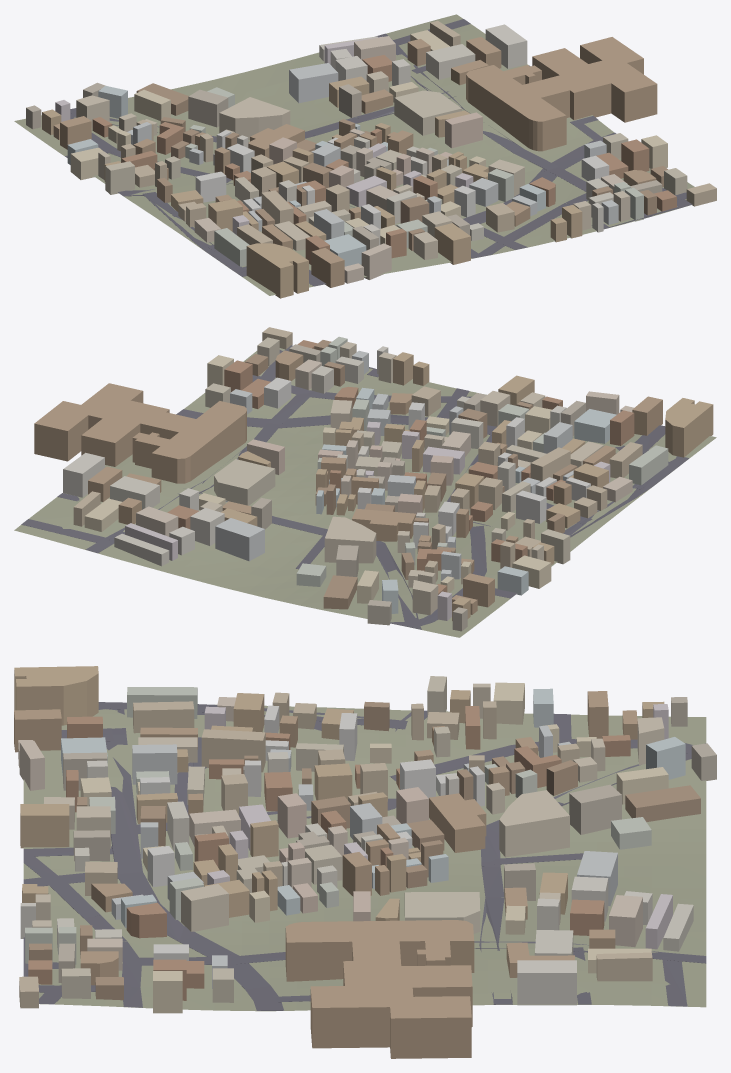
File: chunk_10_2.glb
3 views of the same model, one above another, from view 1: azimuth 30°, elevation 25°; view 2: azimuth 150°, elevation 25°; view 3: azimuth 270°, elevation 25° (orthographic). The views are drawn at different scales.
Parts seen in each view (by area): view 1: geometry_234, geometry_0, geometry_18, geometry_16, geometry_1, geometry_54, geometry_37, geometry_26, geometry_35, geometry_2, geometry_232, geometry_19 (+56 smaller); view 2: geometry_234, geometry_0, geometry_18, geometry_1, geometry_16, geometry_54, geometry_3, geometry_37, geometry_35, geometry_33, geometry_173, geometry_254 (+54 smaller); view 3: geometry_234, geometry_0, geometry_18, geometry_16, geometry_37, geometry_238, geometry_3, geometry_1, geometry_26, geometry_72, geometry_2, geometry_149 (+86 smaller).
Boxes of the visible parts, box(x1,y1,x2,y2) form: geometry_234: box(14, 14, 694, 295); geometry_0: box(466, 37, 657, 151); geometry_18: box(246, 243, 308, 298); geometry_16: box(219, 97, 290, 139); geometry_1: box(394, 90, 461, 135); geometry_54: box(289, 63, 338, 103); geometry_37: box(485, 24, 527, 68); geometry_26: box(434, 223, 470, 264); geometry_35: box(426, 44, 475, 79); geometry_2: box(188, 89, 228, 127); geometry_232: box(445, 112, 482, 148); geometry_19: box(311, 248, 344, 287); geometry_234: box(14, 348, 716, 637); geometry_0: box(34, 383, 246, 483); geometry_18: box(665, 398, 713, 457); geometry_1: box(214, 459, 275, 505); geometry_16: box(324, 516, 376, 563); geometry_54: box(215, 518, 264, 561); geometry_3: box(352, 508, 415, 541); geometry_37: box(63, 452, 104, 497); geometry_35: box(110, 476, 159, 509); geometry_33: box(574, 409, 616, 443); geometry_173: box(629, 445, 668, 485); geometry_254: box(409, 525, 486, 627); geometry_234: box(23, 704, 706, 1011); geometry_0: box(285, 920, 474, 1058); geometry_18: box(14, 666, 98, 725); geometry_16: box(499, 790, 569, 857); geometry_37: box(517, 960, 576, 1005); geometry_238: box(98, 702, 142, 873); geometry_3: box(429, 793, 486, 852); geometry_1: box(404, 892, 480, 933); geometry_26: box(20, 804, 69, 848); geometry_72: box(625, 785, 700, 822); geometry_2: box(569, 784, 621, 834); geometry_149: box(181, 884, 228, 931).
Size of the model in its own units: 296 by 26.22 by 257.
